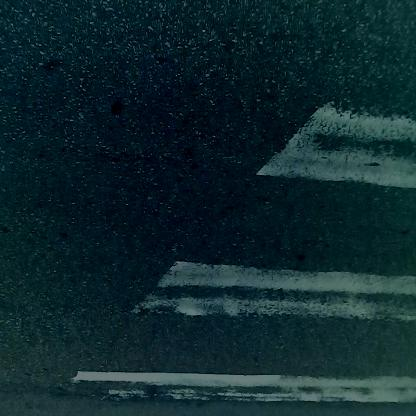crosswalk: (67, 62, 416, 408)
